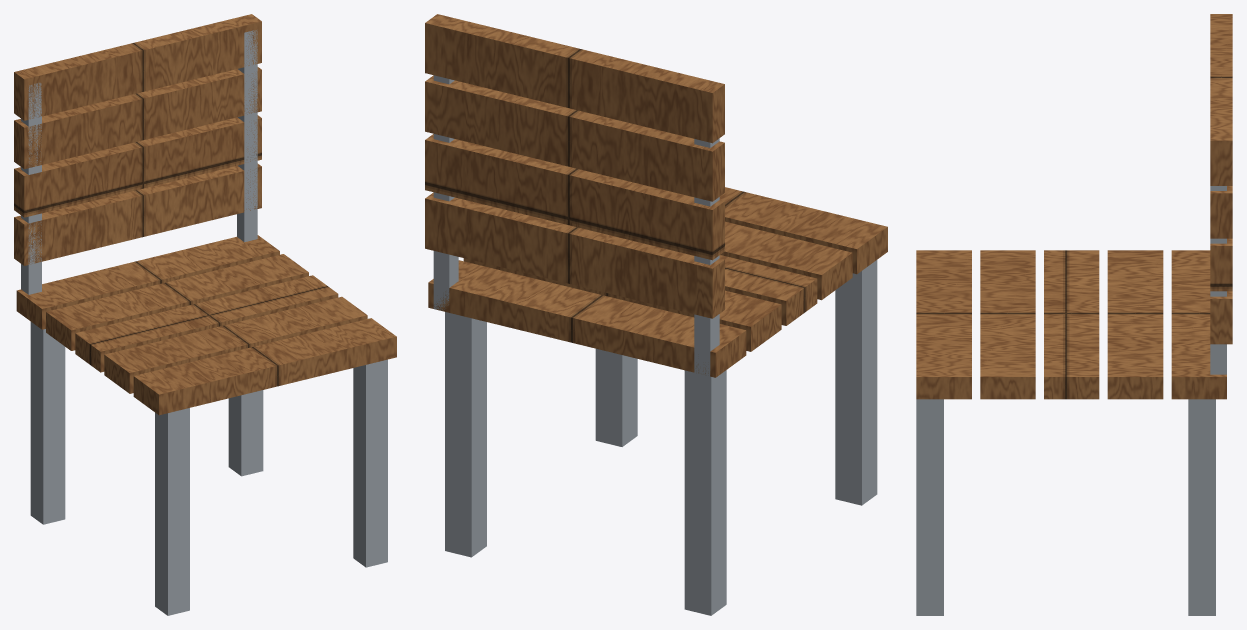
File: Kerti_szek.obj
3 renders of one model, left to right at view 1: azimuth 30°, elevation 25°; view 2: azimuth 150°, elevation 25°; view 3: azimuth 270°, elevation 25°, orthographic. The views are drawn at different scales.
Size of the model in its own units: 0.54 by 0.955 by 0.57.
Materials: 2 (1 with a texture image).
